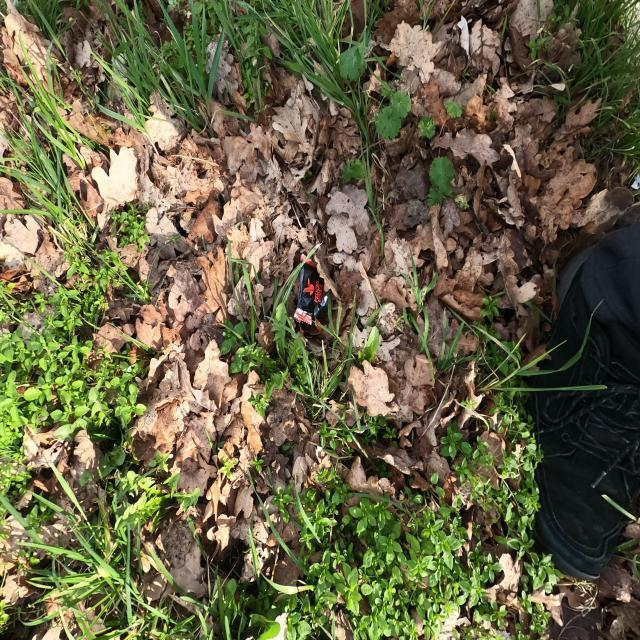Plastic: (292, 252, 328, 334)
